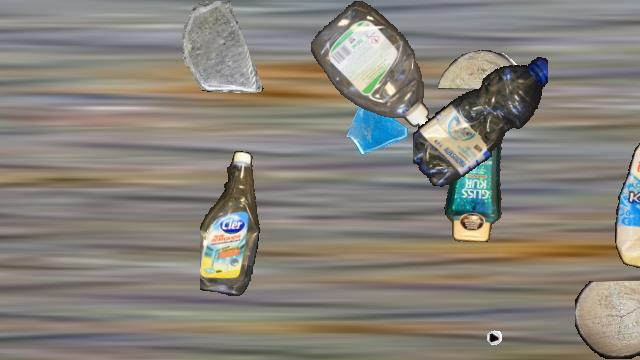glass: (177, 1, 269, 93), (345, 94, 411, 160)
metal: (449, 290, 509, 350)
plastic: (413, 50, 547, 190), (311, 1, 431, 131), (440, 99, 512, 241), (200, 151, 260, 295), (611, 63, 640, 275)
wood: (575, 281, 640, 359), (438, 50, 522, 88)
